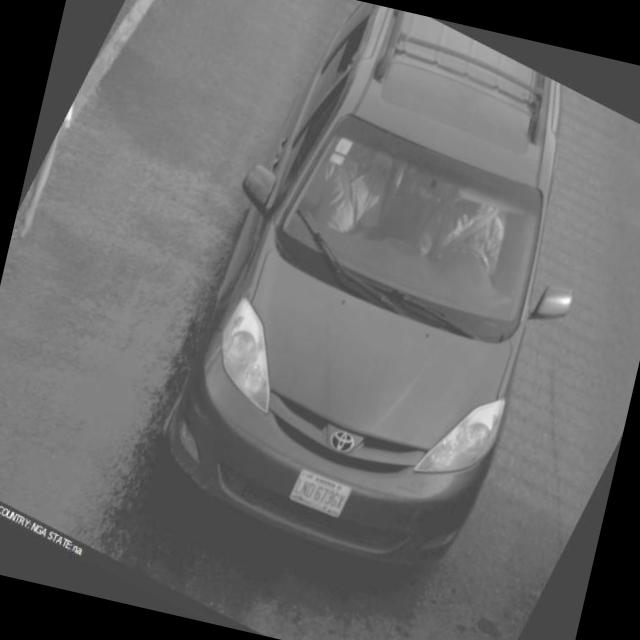person_with_seatbelt: (397, 178, 538, 313)
